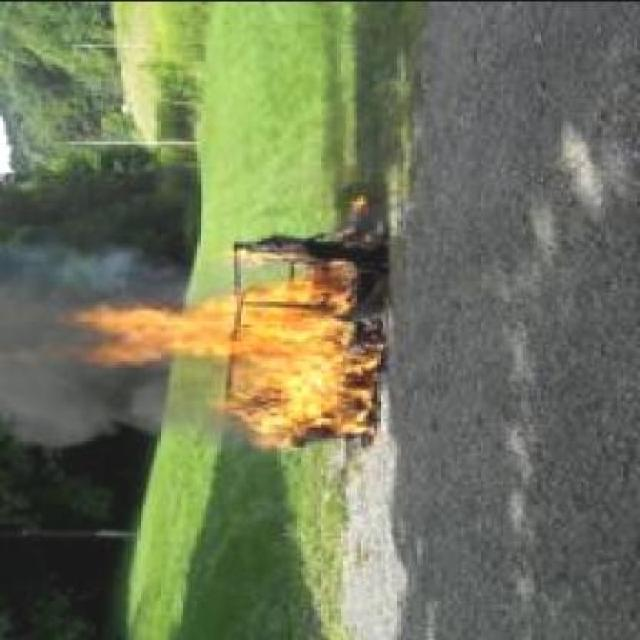Fire: (62, 244, 380, 448)
Smoke: (0, 218, 62, 448)
